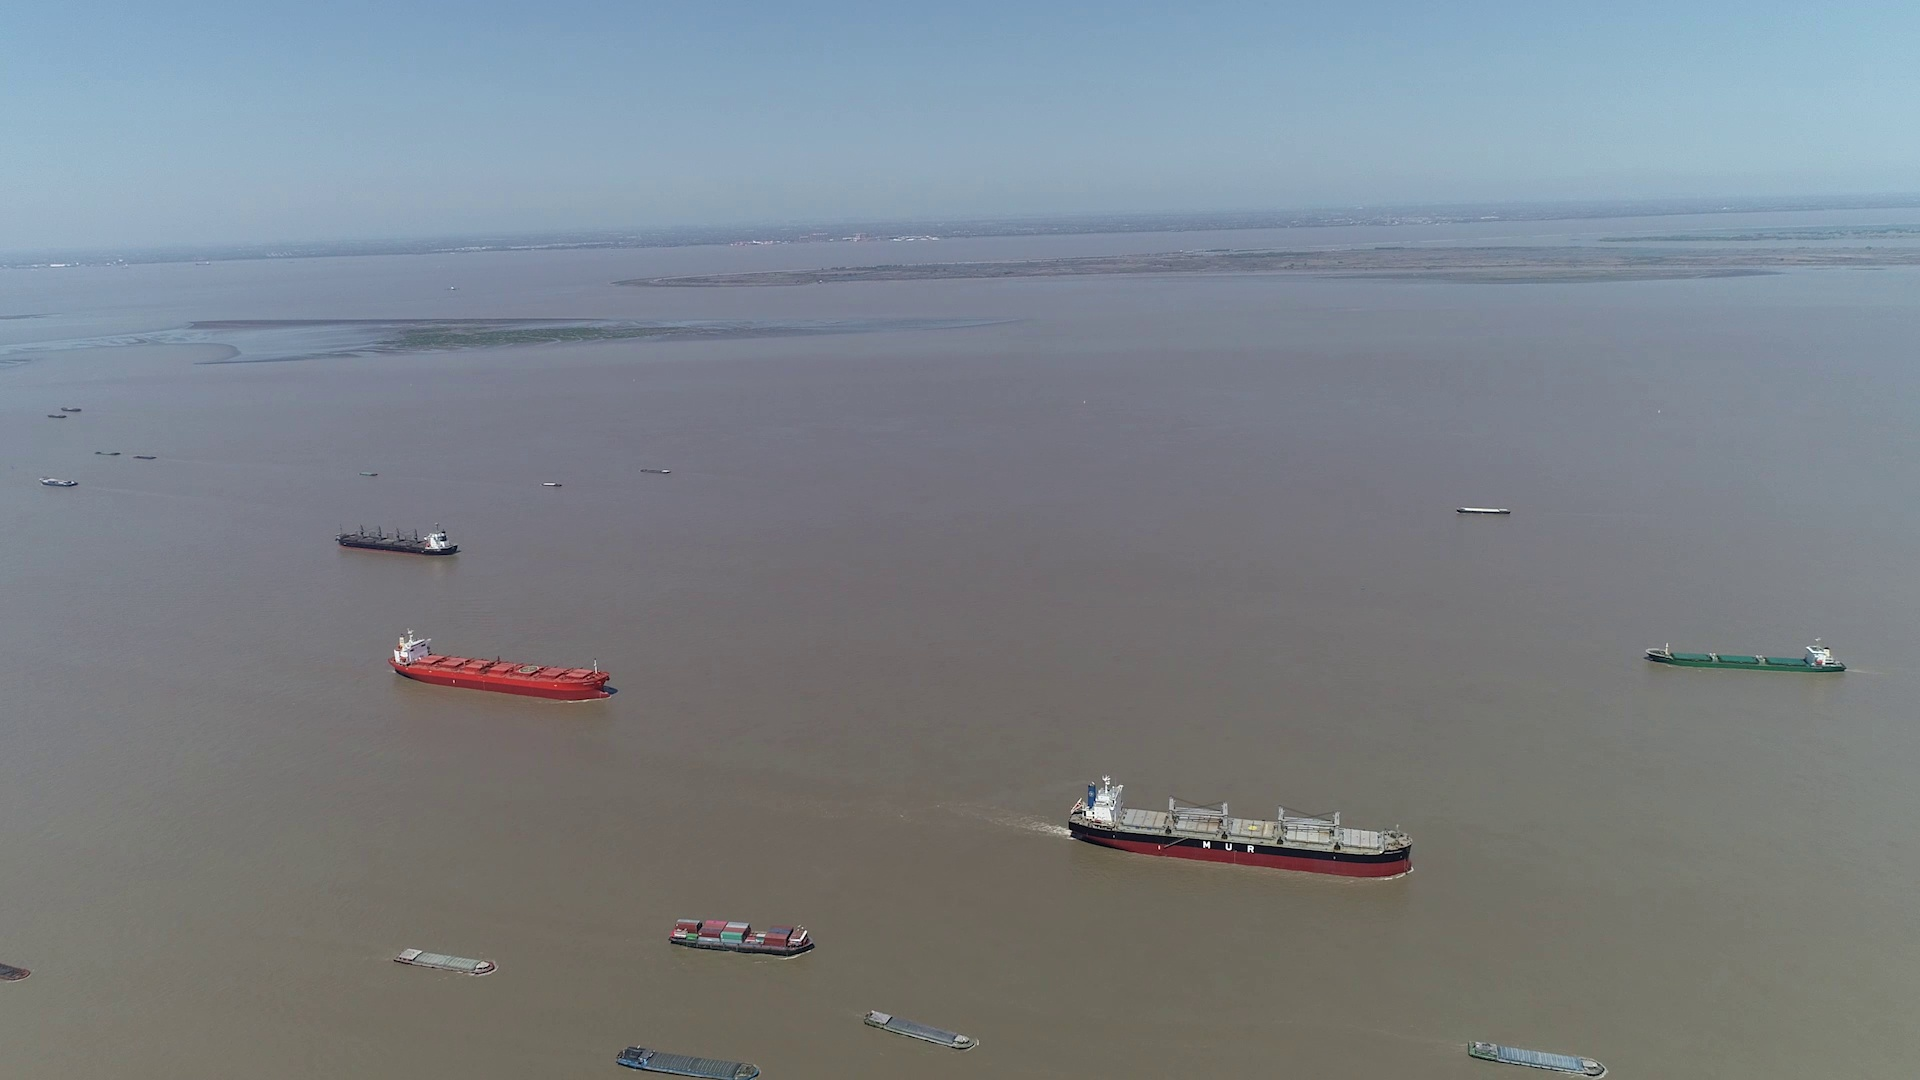ship: (1065, 777, 1418, 878), (390, 632, 611, 702), (1648, 641, 1846, 673), (670, 919, 815, 957), (1469, 1040, 1606, 1077), (864, 1009, 976, 1054), (615, 1046, 765, 1079), (338, 520, 459, 555), (394, 947, 497, 976), (0, 959, 29, 981), (1456, 505, 1510, 516), (40, 476, 80, 488)
